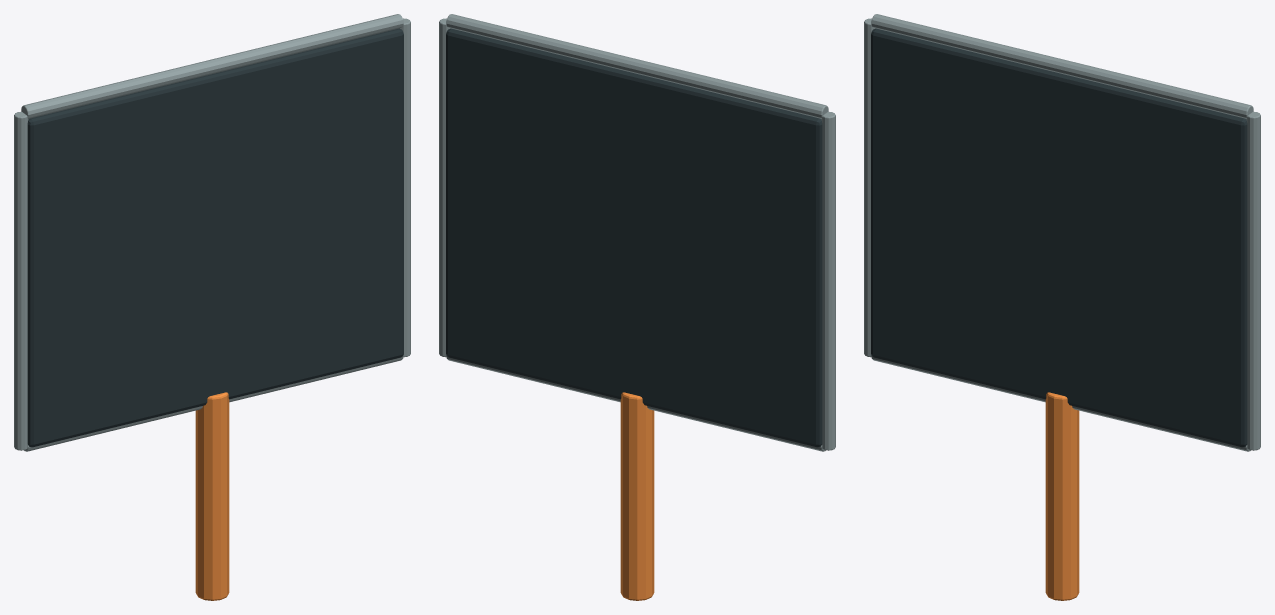
File: P079_light_flag.glb
3 renders of one model, left to right at view 1: azimuth 30°, elevation 25°; view 2: azimuth 150°, elevation 25°; view 3: azimuth 330°, elevation 25°, orthographic.
Parts seen in each view (by area): view 1: P079_fabric_001, P079_handle_006, P079_frame_005, P079_frame_002, P079_frame_003, P079_frame_004; view 2: P079_fabric_001, P079_handle_006, P079_frame_005, P079_frame_002, P079_frame_003, P079_frame_004; view 3: P079_fabric_001, P079_handle_006, P079_frame_005, P079_frame_003, P079_frame_002, P079_frame_004.
Part boxes in pixels (x1,y1,x2,y2): P079_fabric_001: (27, 28, 403, 447); P079_handle_006: (195, 392, 229, 600); P079_frame_005: (21, 14, 403, 118); P079_frame_002: (14, 111, 28, 450); P079_frame_003: (399, 18, 410, 357); P079_frame_004: (24, 355, 403, 451); P079_fabric_001: (446, 28, 822, 447); P079_handle_006: (620, 392, 654, 600); P079_frame_005: (446, 14, 828, 118); P079_frame_002: (821, 111, 835, 450); P079_frame_003: (439, 18, 450, 357); P079_frame_004: (446, 355, 825, 451); P079_fabric_001: (871, 28, 1247, 447); P079_handle_006: (1045, 392, 1079, 600); P079_frame_005: (871, 14, 1253, 118); P079_frame_003: (1246, 111, 1260, 450); P079_frame_002: (864, 18, 875, 357); P079_frame_004: (871, 355, 1250, 451).
Bounding box in the file's own units: 0.378 × 0.489 × 0.028.
